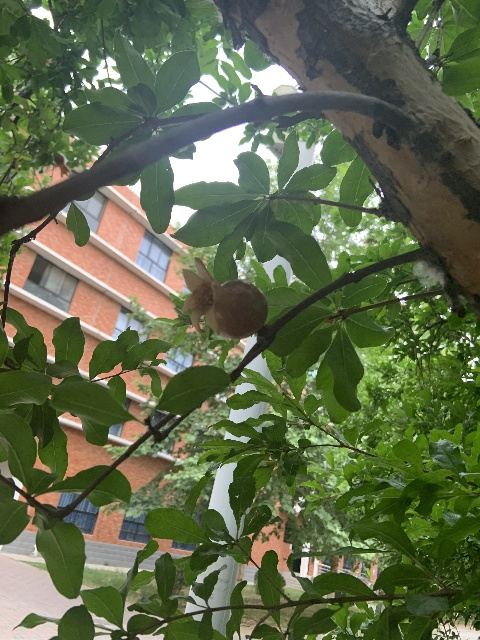early-fruit: (180, 259, 267, 340)
